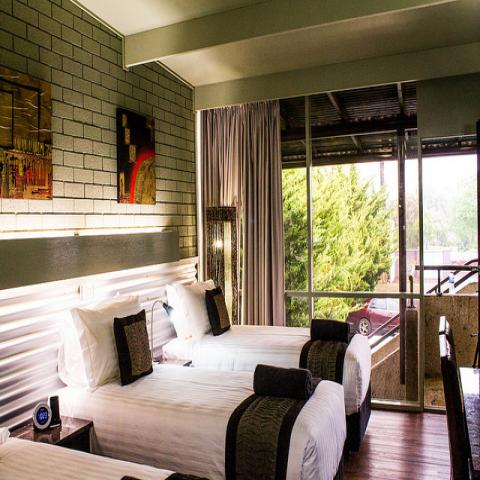car: (346, 299, 400, 333)
